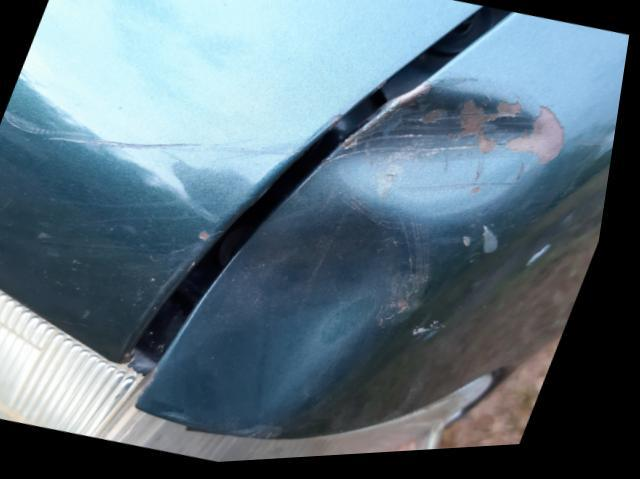dent: (192, 81, 564, 443)
scratch: (5, 102, 300, 305)
